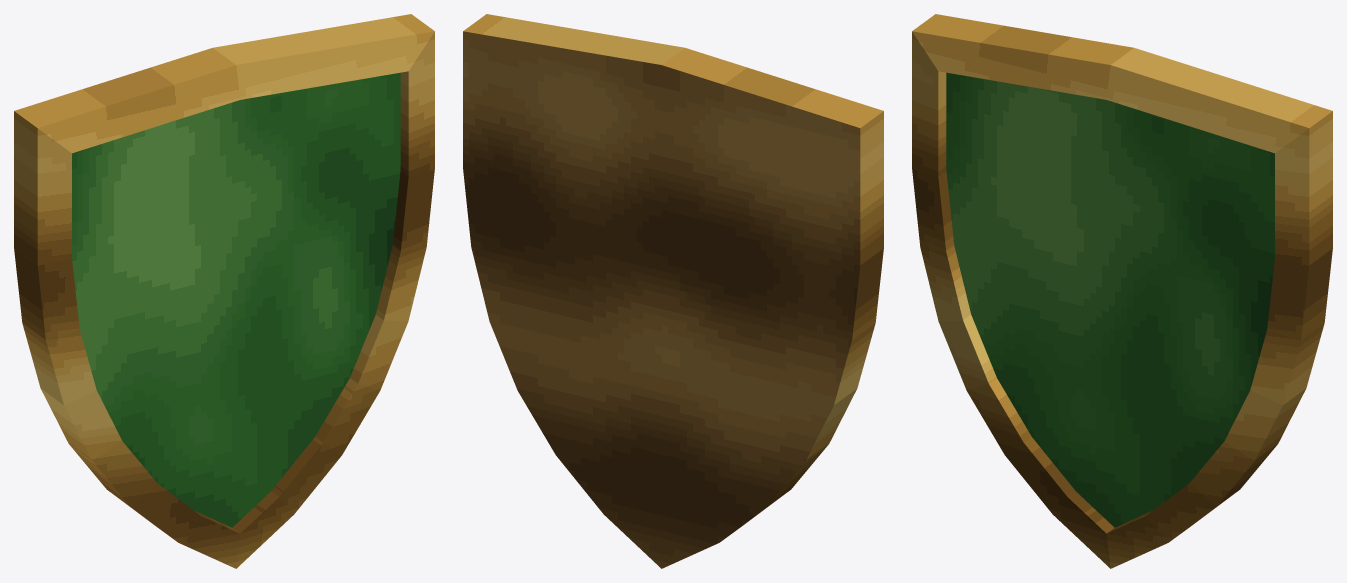
Rendered from shield.glb.
3 views of the same model, side by side, from view 1: azimuth 30°, elevation 25°; view 2: azimuth 150°, elevation 25°; view 3: azimuth 330°, elevation 25° (orthographic).
Parts seen in each view (by area): view 1: Shield; view 2: Shield; view 3: Shield.
Boxes of the visible parts, x1=… form: Shield: x1=14, y1=14, x2=434, y2=568; Shield: x1=463, y1=14, x2=883, y2=568; Shield: x1=912, y1=14, x2=1332, y2=568.
Bounding box in the file's own units: 0.34 × 0.412 × 0.041.
Materials: 3 (3 with a texture image).
